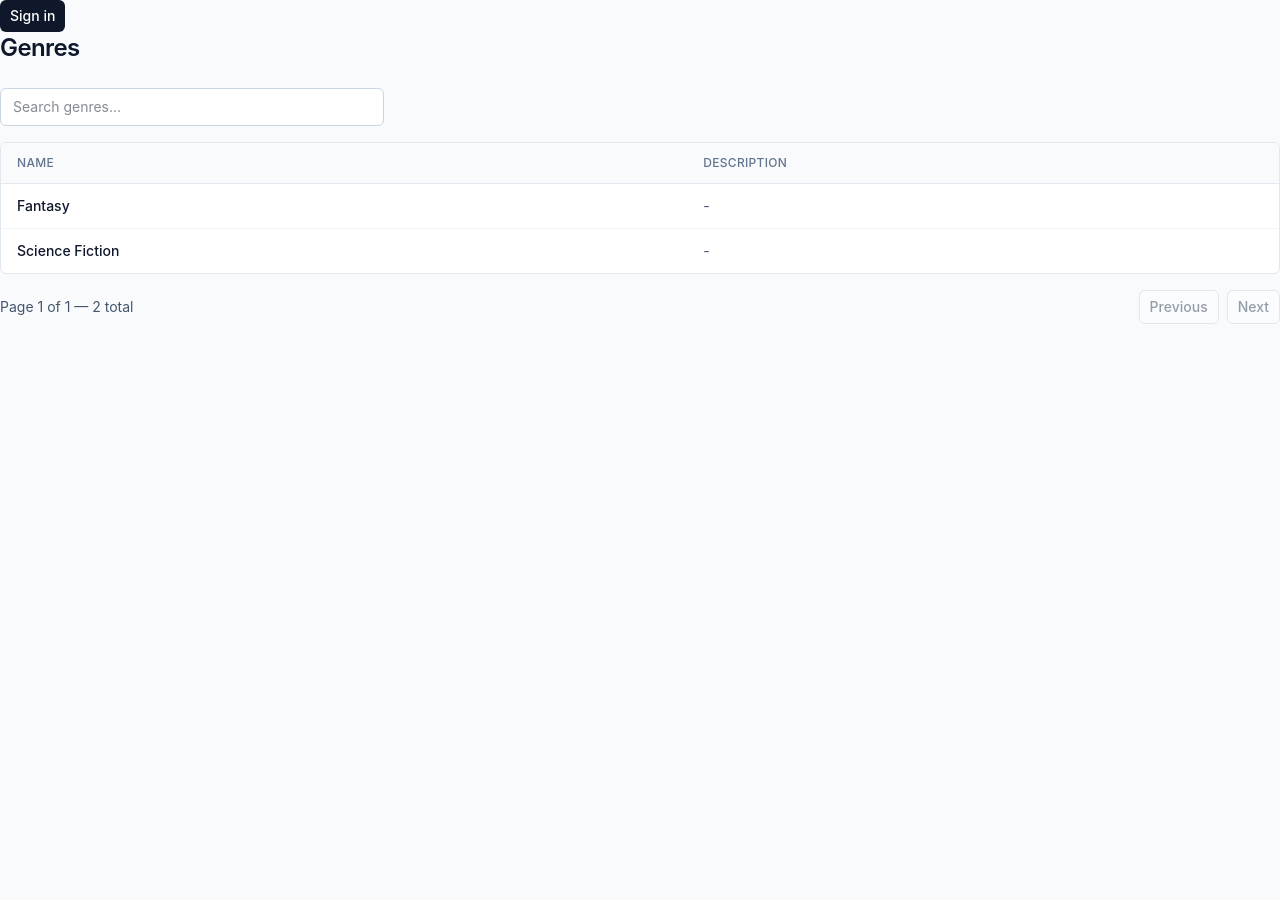
Test: Genres › attaches a server field error to the matching form field
Click the button "Sign in" at (33, 16), box [0,0,65,32]
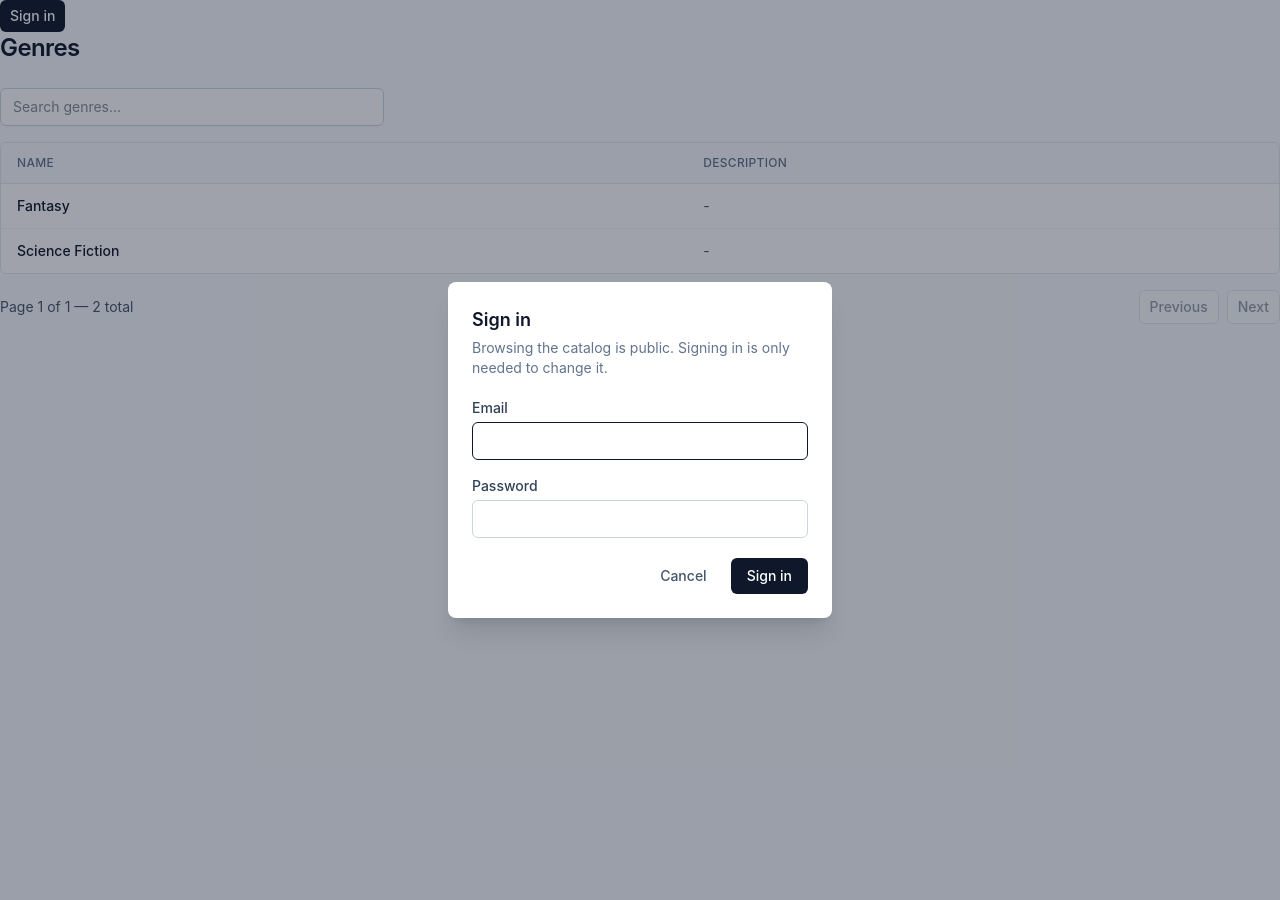
Type "admin@librarycatalog.dev" into the field labelled "Email" at (640, 441), box [472,422,808,460]
Type "Admin@123" into the password field labelled "Password" at (640, 519), box [472,500,808,538]
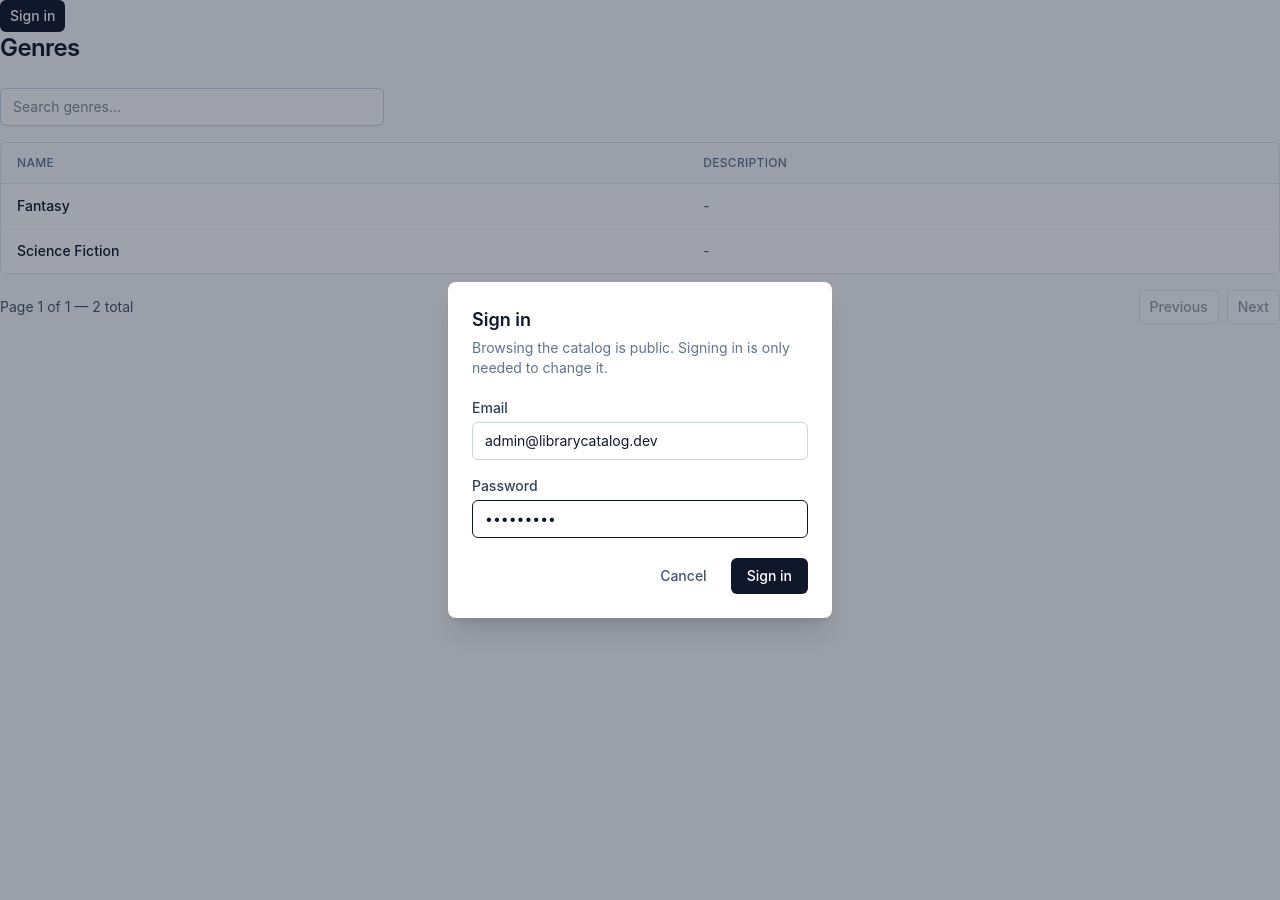
Click the button "Sign in" below "Password" at (769, 576), box [731,558,808,594]
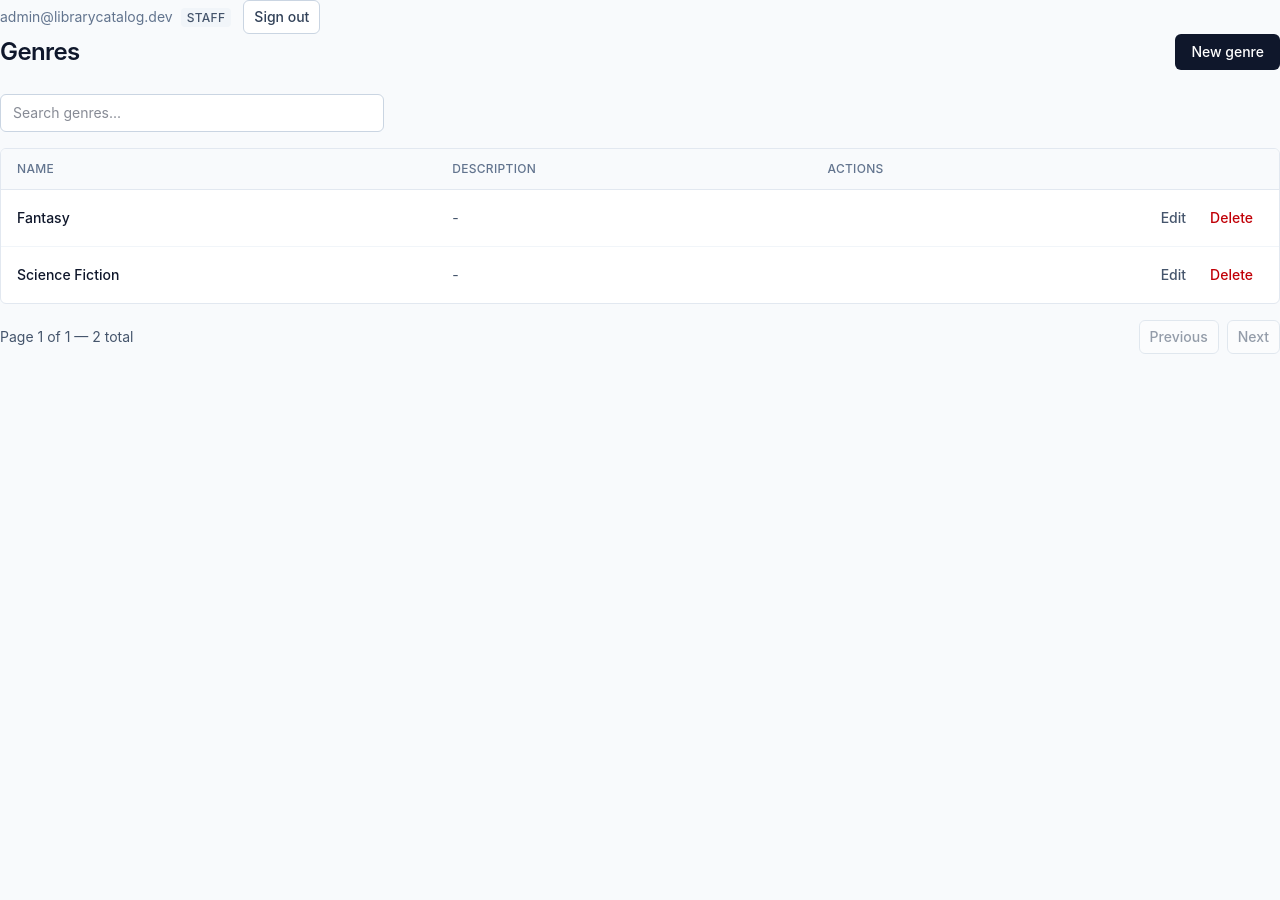
Check: the dialog is gone
Click the button "New genre" at (1228, 52), box [1175,34,1279,70]
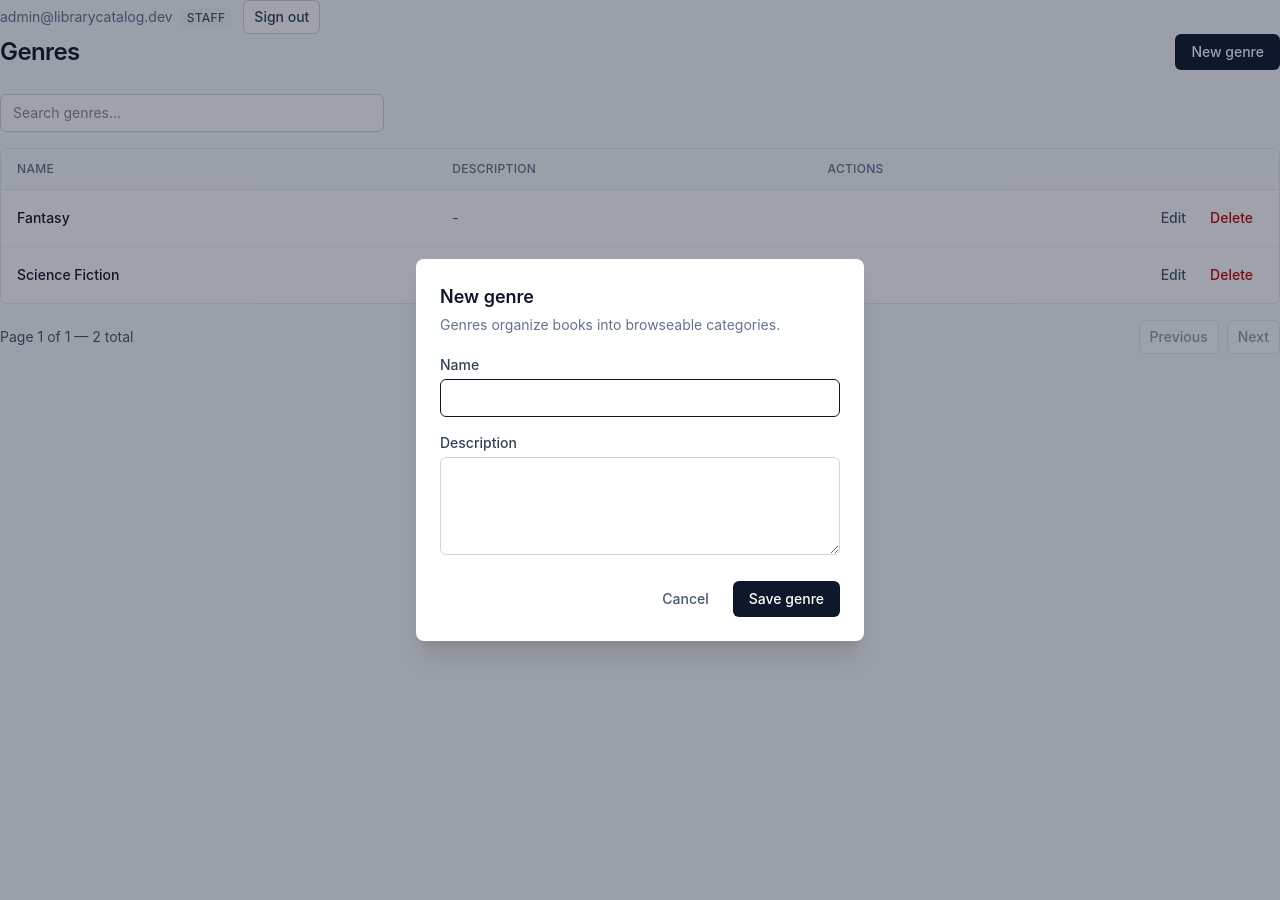
Type "Horror" into the field labelled "Name" at (640, 398), box [440,379,840,417]
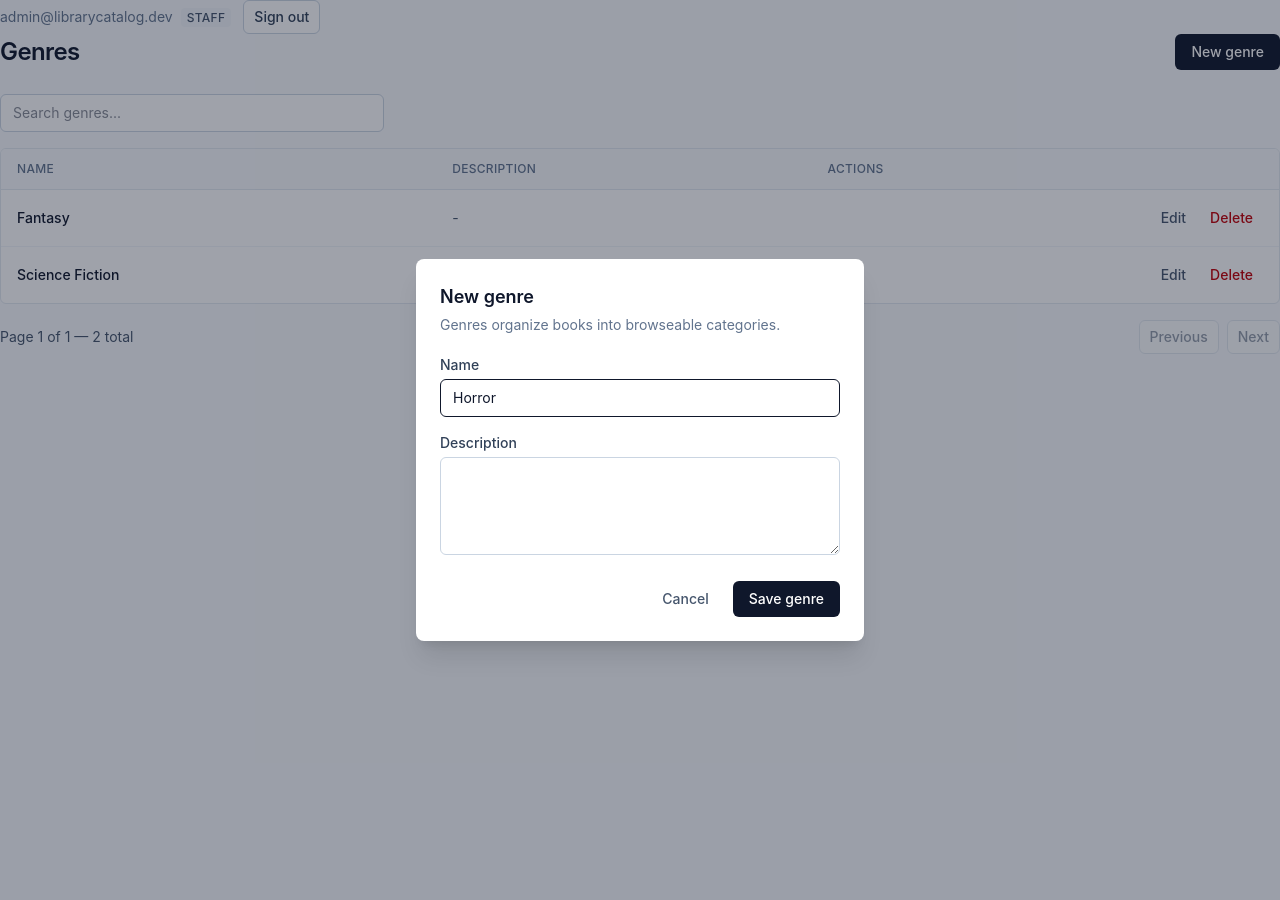
Click the button "Save genre" at (786, 599), box [733,581,840,617]
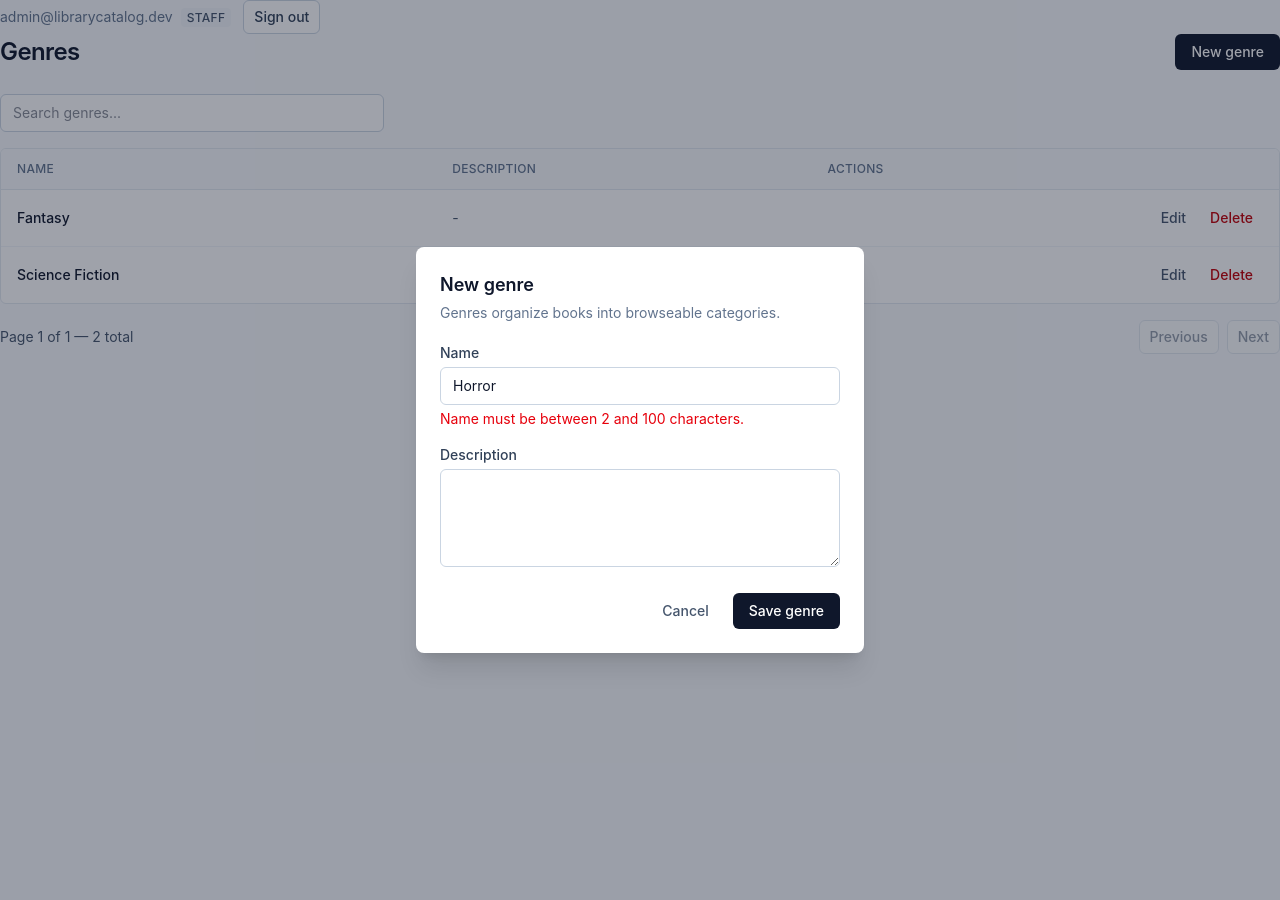
Check: the message "Name must be between 2 and 100 characters." is shown, box [440,410,744,427]
